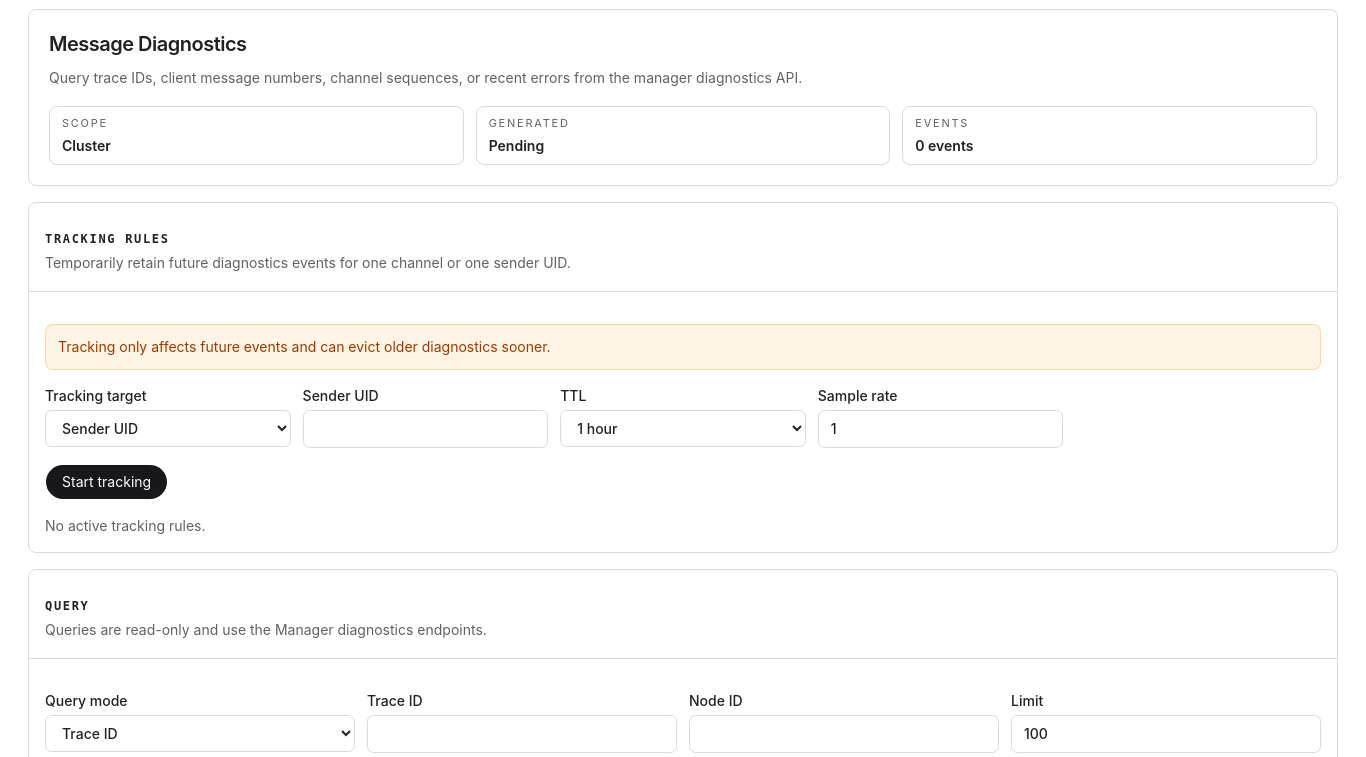
Test: runs a trace query and renders the summary
Step 1. Type "tr-1" into the field labelled "Trace ID" → (522, 734), box [367,714,677,752]
(page scrolled)
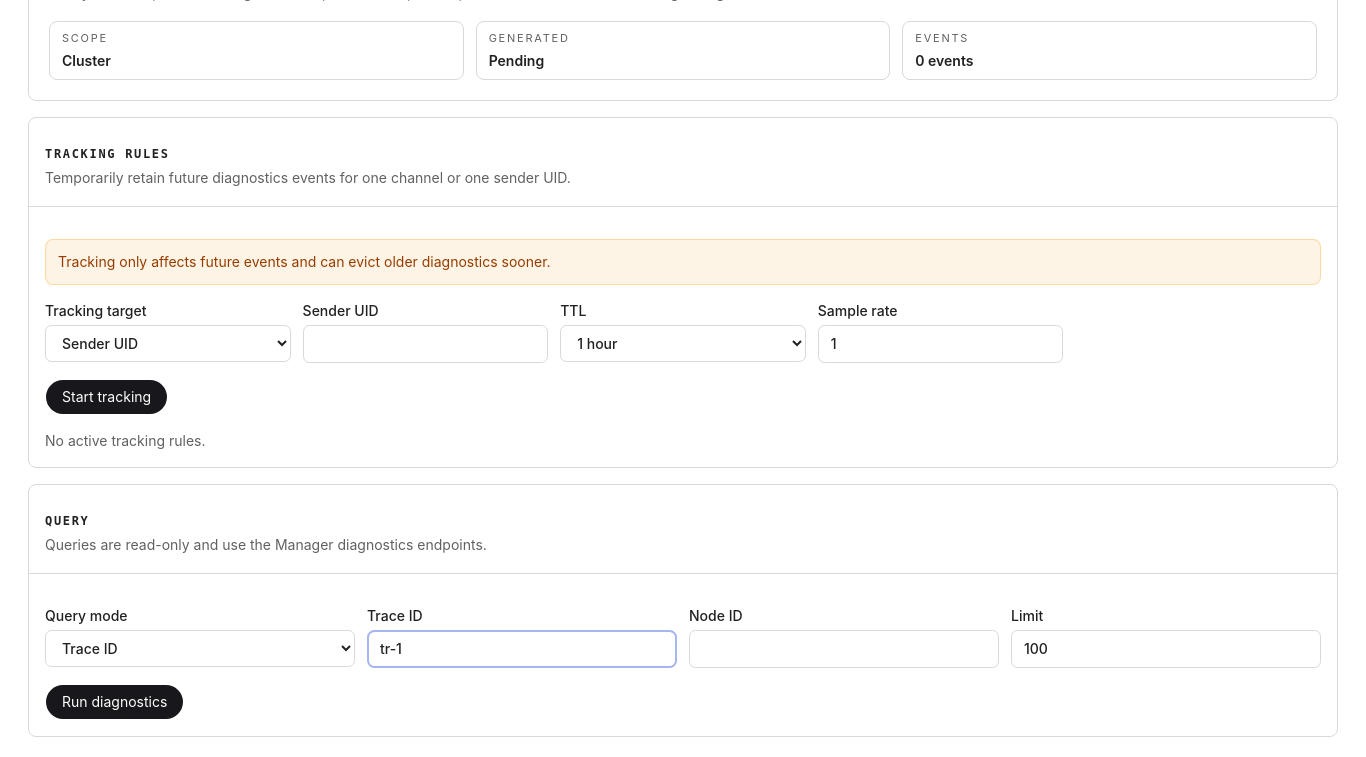
Step 2. Click the button "Run diagnostics" → (115, 702), box [45,684,184,720]
(page scrolled)
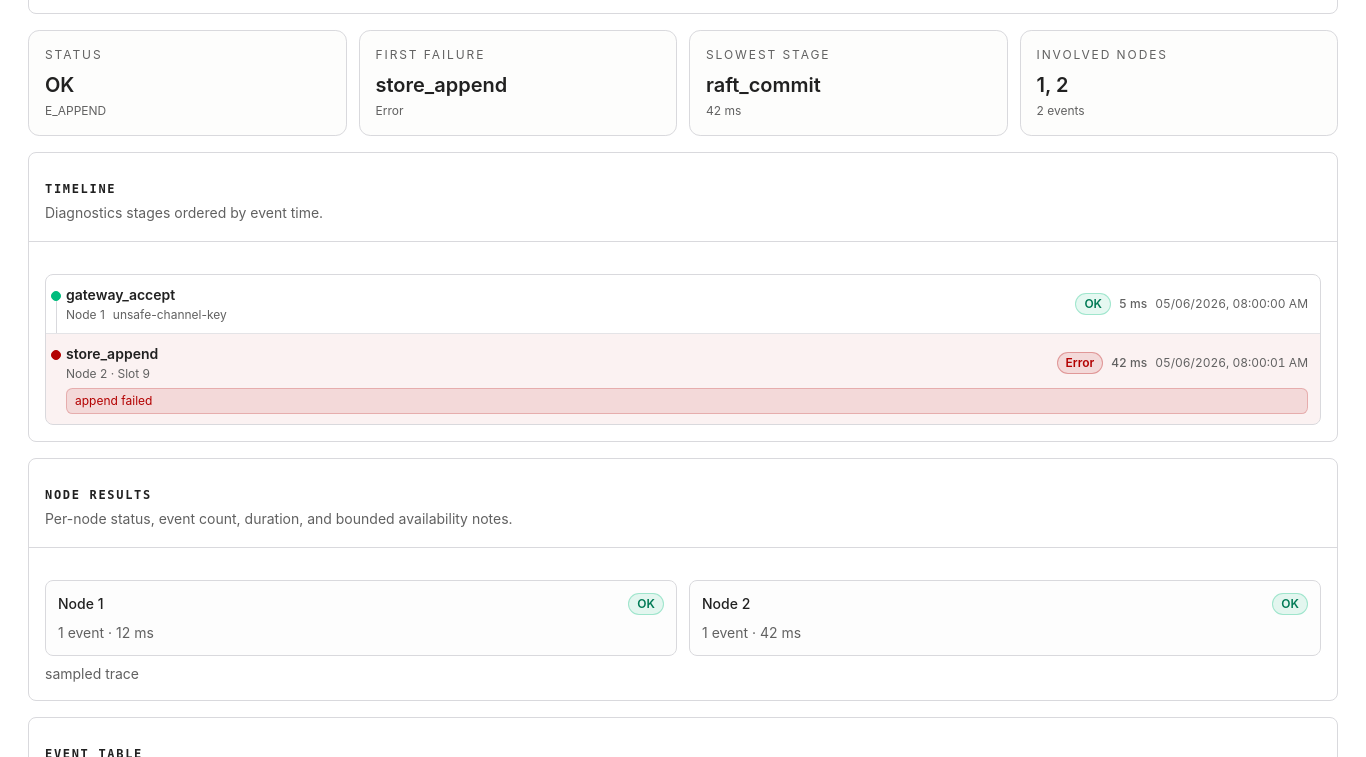
Now the text "Status" is shown, box [45,46,102,62]
Now the text "OK" in the row of "raft_commit" is shown, box [45,72,74,96]
Now the text "store_append" below "First failure" is shown, box [376,72,507,96]
